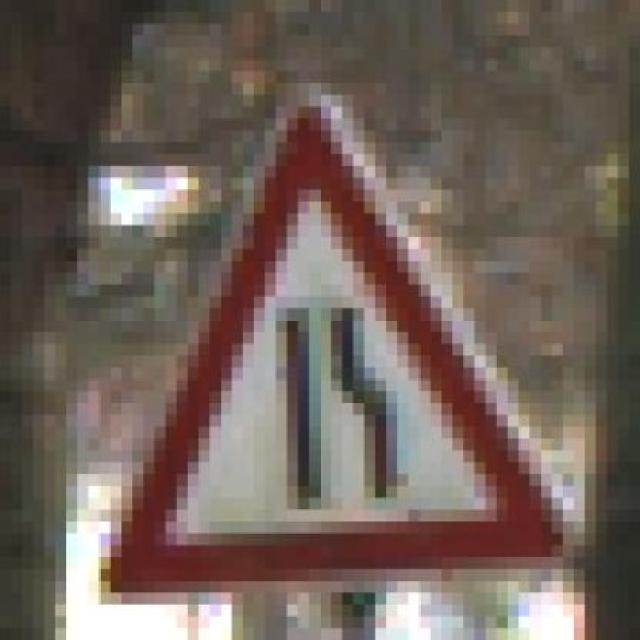-Road narrows on right: (89, 82, 586, 593)
